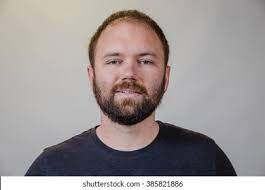s.white: (139, 63, 164, 88)
